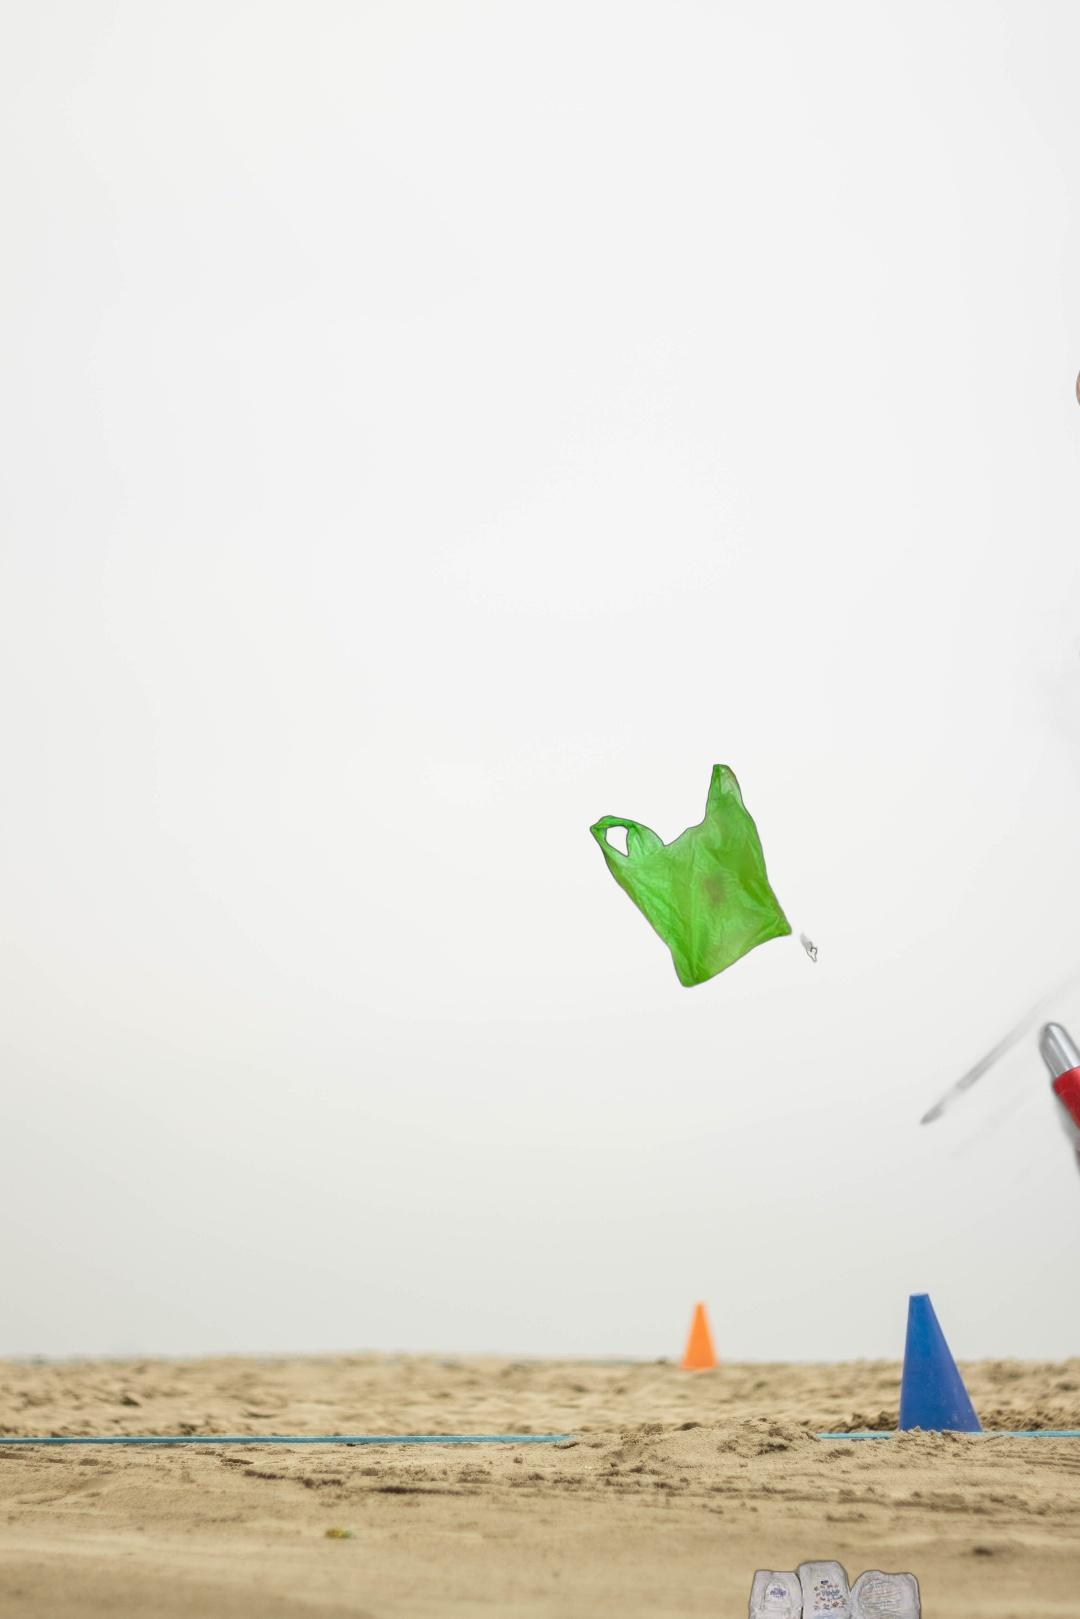penholder: (892, 608, 1080, 1357), (1027, 872, 1080, 1619)
plastic-bag: (587, 763, 821, 990)
shoes: (1074, 333, 1080, 526), (1078, 610, 1080, 731)
trash: (720, 1558, 937, 1619)
